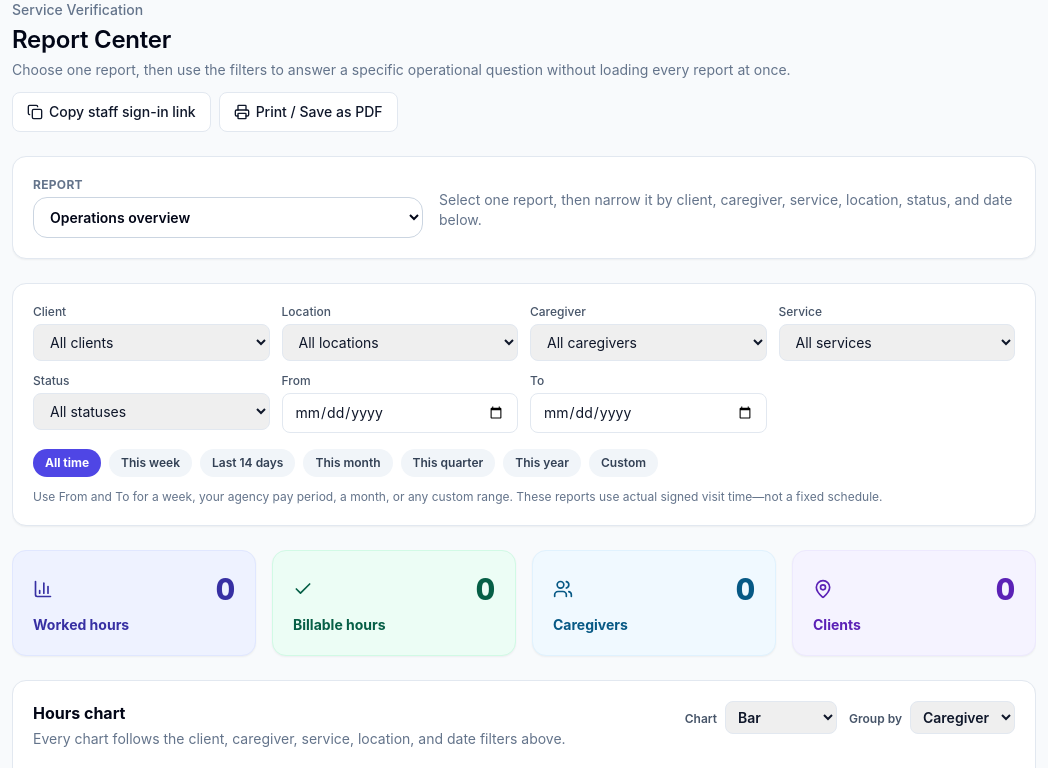
Test: ServiceVerificationReportsPage › lists visits and computes worked/billable subtotals, excluding corrected records
Select "Visit details" in the dropdown labelled "Report" at (228, 218), box [33, 197, 423, 238]
(page scrolled)
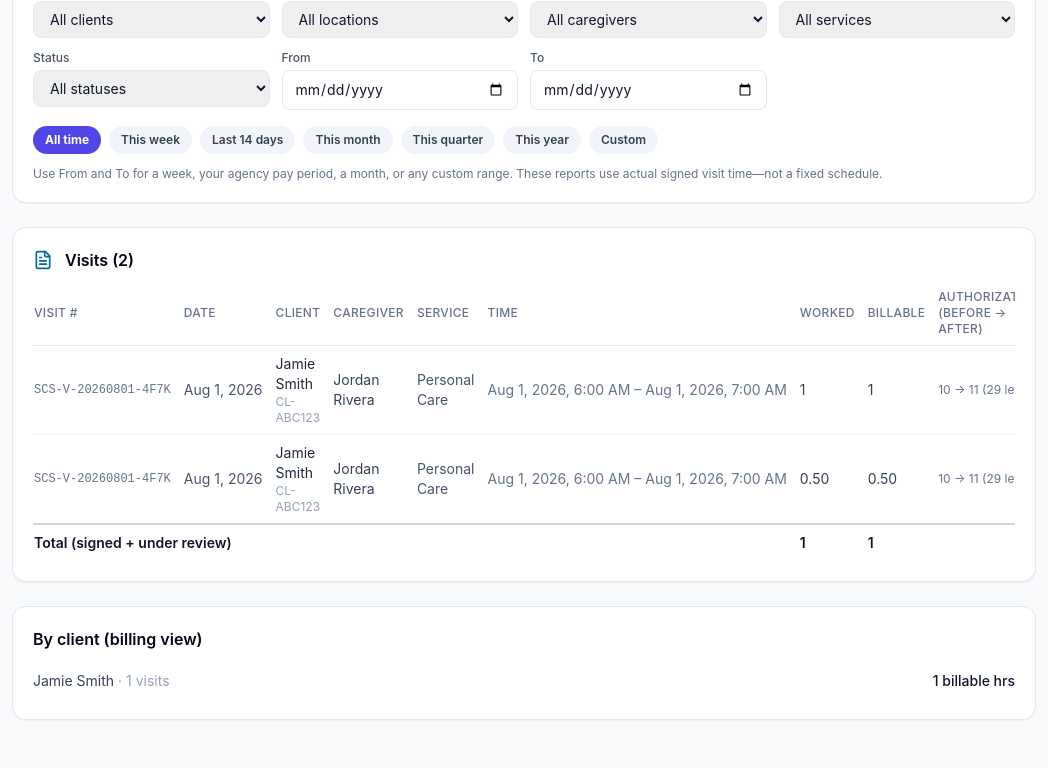
Result: the heading "Visits (2)" is shown at [65, 248, 134, 272]
Result: the table named "Visit details" shows "Jamie Smith" at [276, 355, 315, 392]
Result: the text "Total (signed + under review)" shows "1" at [800, 534, 806, 551]
